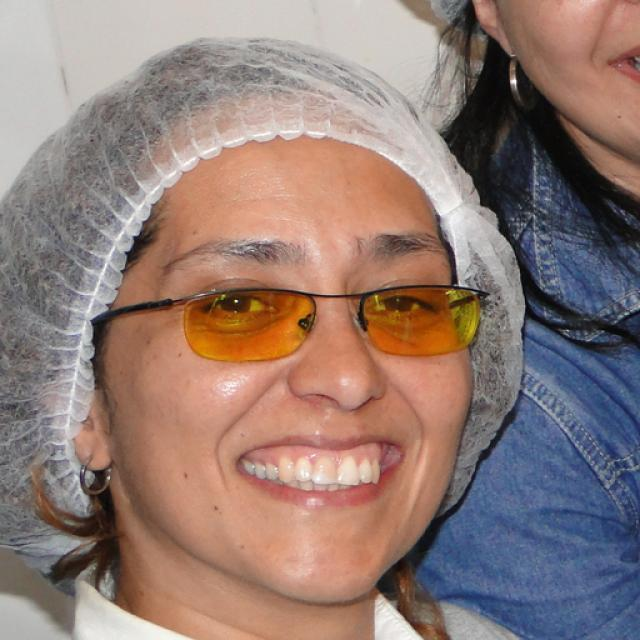happy: (108, 117, 472, 598)
